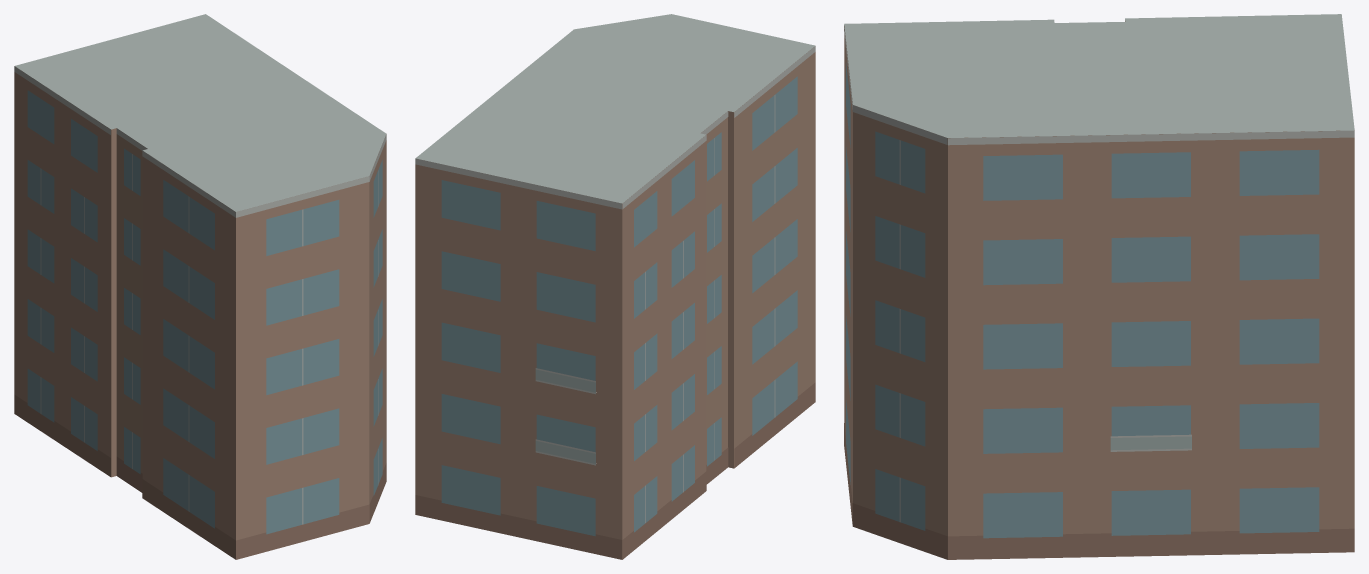
File: survey-upis-32696758.glb
3 renders of one model, left to right at view 1: azimuth 30°, elevation 25°; view 2: azimuth 150°, elevation 25°; view 3: azimuth 270°, elevation 25°, orthographic. The views are drawn at different scales.
Visible parts, largest first — view 1: survey-upis-32696758.tmp; view 2: survey-upis-32696758.tmp; view 3: survey-upis-32696758.tmp.
Boxes of the visible parts, x1,y1,x2,y2 form: survey-upis-32696758.tmp: (14,14,386,559); survey-upis-32696758.tmp: (415,14,815,559); survey-upis-32696758.tmp: (844,14,1354,559).
Size of the model in its own units: 9.16 by 14.5 by 15.92.
